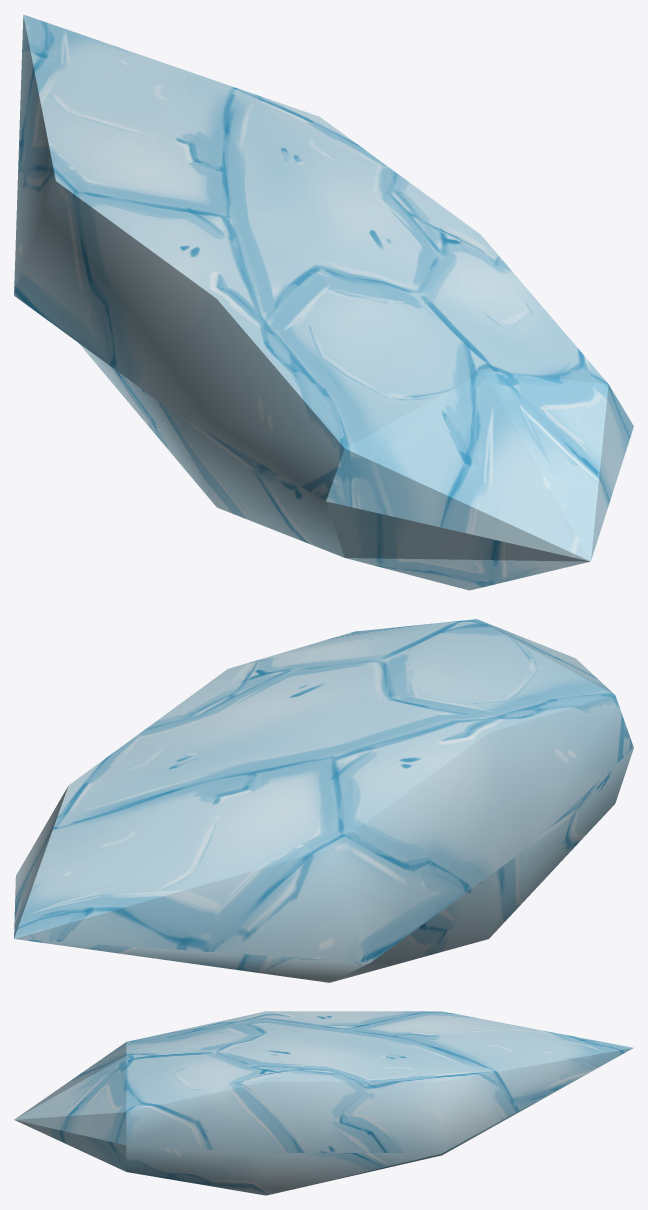
The model's file is Ice Bullet.FBX.
3 views of the same model, one above another, from view 1: azimuth 30°, elevation 25°; view 2: azimuth 150°, elevation 25°; view 3: azimuth 270°, elevation 25° (orthographic). The views are drawn at different scales.
Parts seen in each view (by area): view 1: Ice; view 2: Ice; view 3: Ice.
Part boxes in pixels (x1=…): Ice: x1=14, y1=14, x2=633, y2=590; Ice: x1=14, y1=619, x2=633, y2=982; Ice: x1=14, y1=1011, x2=633, y2=1195.
Size of the model in its own units: 6.52 by 4.35 by 17.85.
